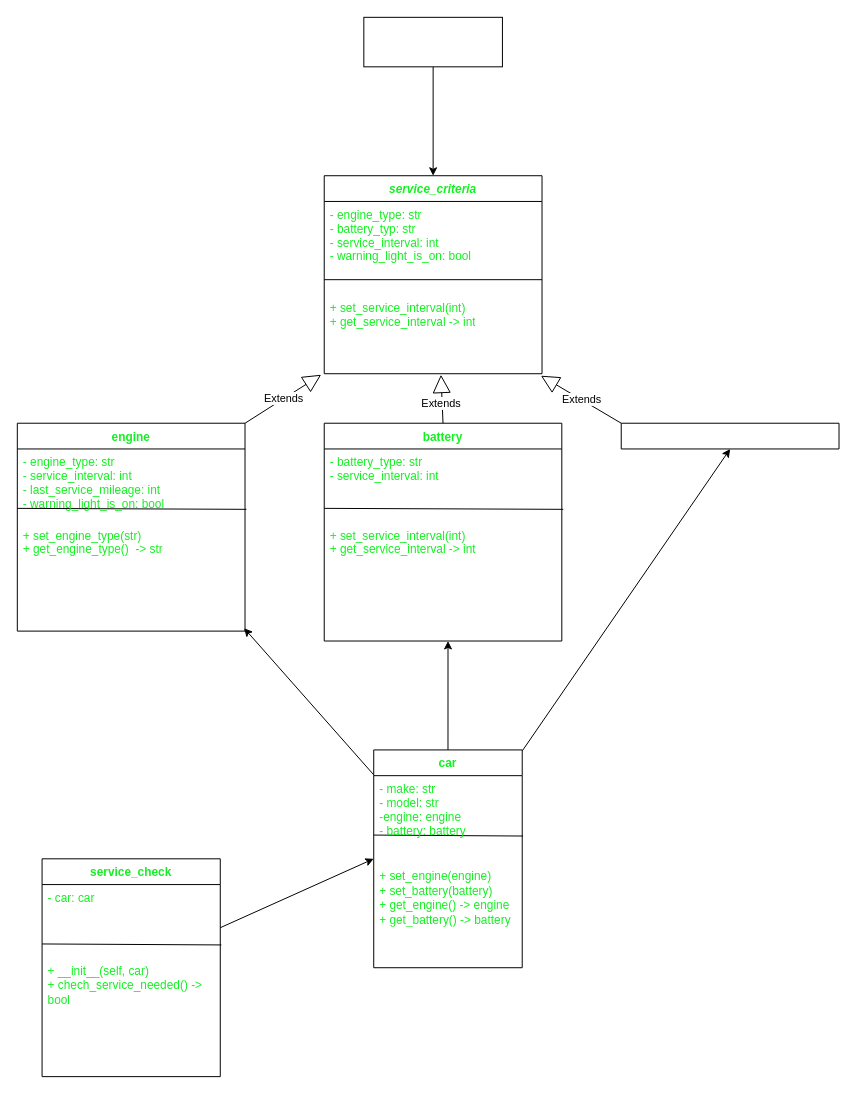
This 856x1097 diagram has some shape labels left out. The shapes that lost their labels are listed below. From the top down, each one's centre as x and y in pixels, then its label:
At (x=432, y=41): "ABC".
At (x=729, y=435): "tires".
